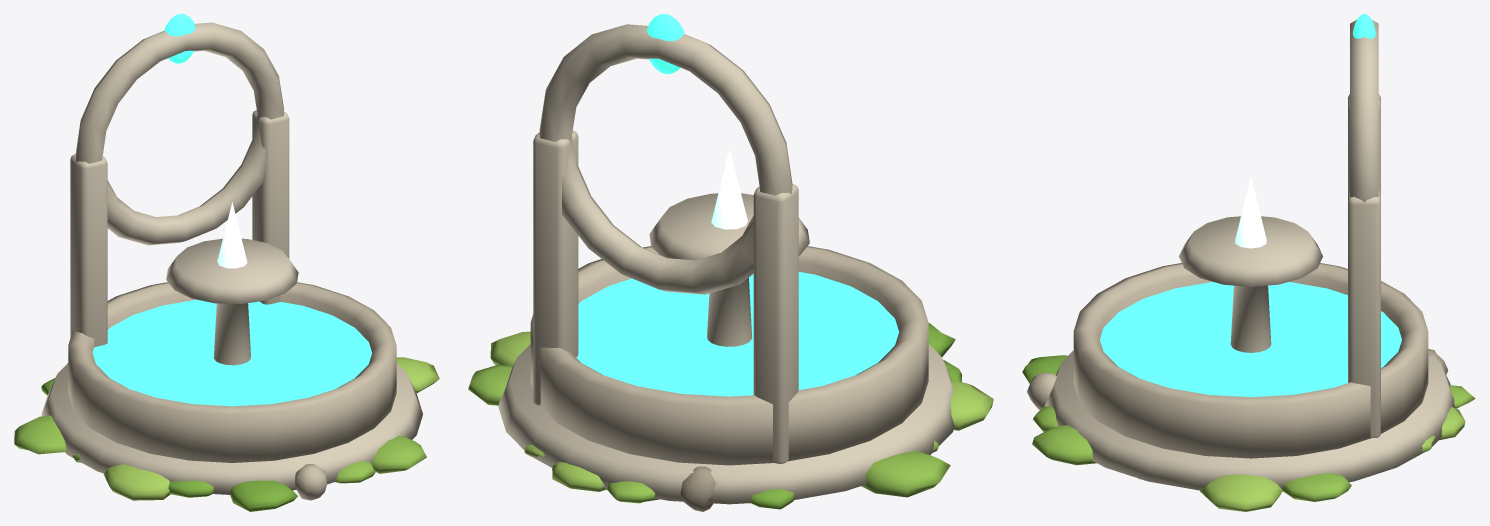
The model's file is b_fountain.glb.
3 views of the same model, side by side, from view 1: azimuth 30°, elevation 25°; view 2: azimuth 150°, elevation 25°; view 3: azimuth 270°, elevation 25° (orthographic). The views are drawn at different scales.
Parts seen in each view (by area): view 1: root_matte#d6ccb6, root_matte#c9bea8, water, root_matte#94c252, root_matte#a8d060, root_matte#7fb243, spout, gem; view 2: root_matte#d6ccb6, root_matte#c9bea8, water, root_matte#94c252, root_matte#a8d060, spout, root_matte#7fb243, root_matte#a99e8a, gem; view 3: root_matte#d6ccb6, root_matte#c9bea8, water, root_matte#94c252, root_matte#a8d060, spout, root_matte#7fb243.
Part boxes in pixels (box(x1,y1,x2,y2)): root_matte#d6ccb6: box(41, 22, 422, 494); root_matte#c9bea8: box(68, 282, 396, 500); water: box(92, 299, 371, 406); root_matte#94c252: box(14, 415, 426, 483); root_matte#a8d060: box(103, 357, 439, 500); root_matte#7fb243: box(41, 378, 297, 511); spout: box(217, 202, 247, 268); gem: box(164, 14, 195, 63); root_matte#d6ccb6: box(498, 24, 954, 504); root_matte#c9bea8: box(530, 246, 928, 465); water: box(576, 272, 898, 396); root_matte#94c252: box(468, 364, 950, 503); root_matte#a8d060: box(490, 331, 993, 491); spout: box(711, 149, 747, 229); root_matte#7fb243: box(749, 323, 961, 509); root_matte#a99e8a: box(680, 466, 715, 511); gem: box(646, 14, 684, 74); root_matte#d6ccb6: box(1045, 20, 1456, 490); root_matte#c9bea8: box(1027, 263, 1428, 458); water: box(1100, 282, 1401, 397); root_matte#94c252: box(1032, 385, 1475, 501); root_matte#a8d060: box(1200, 407, 1465, 511); spout: box(1235, 177, 1266, 248); root_matte#7fb243: box(1022, 355, 1067, 383).
Bounding box in the file's own units: 2.39 × 2.16 × 2.2.
